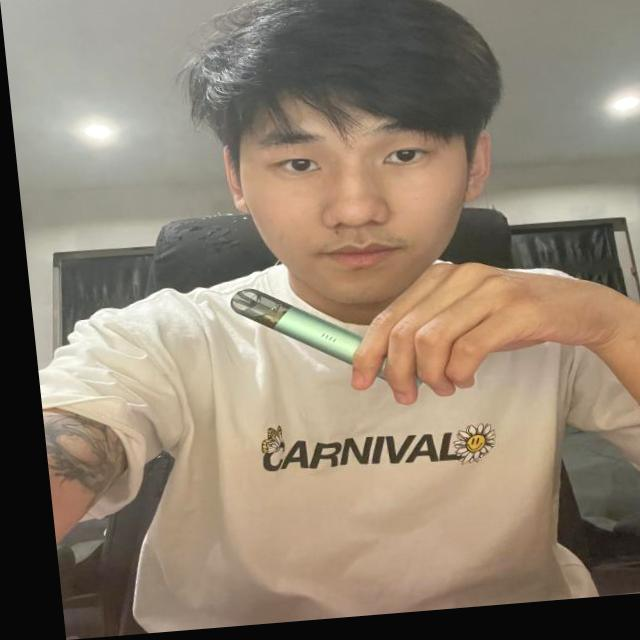vape: (222, 285, 357, 378)
